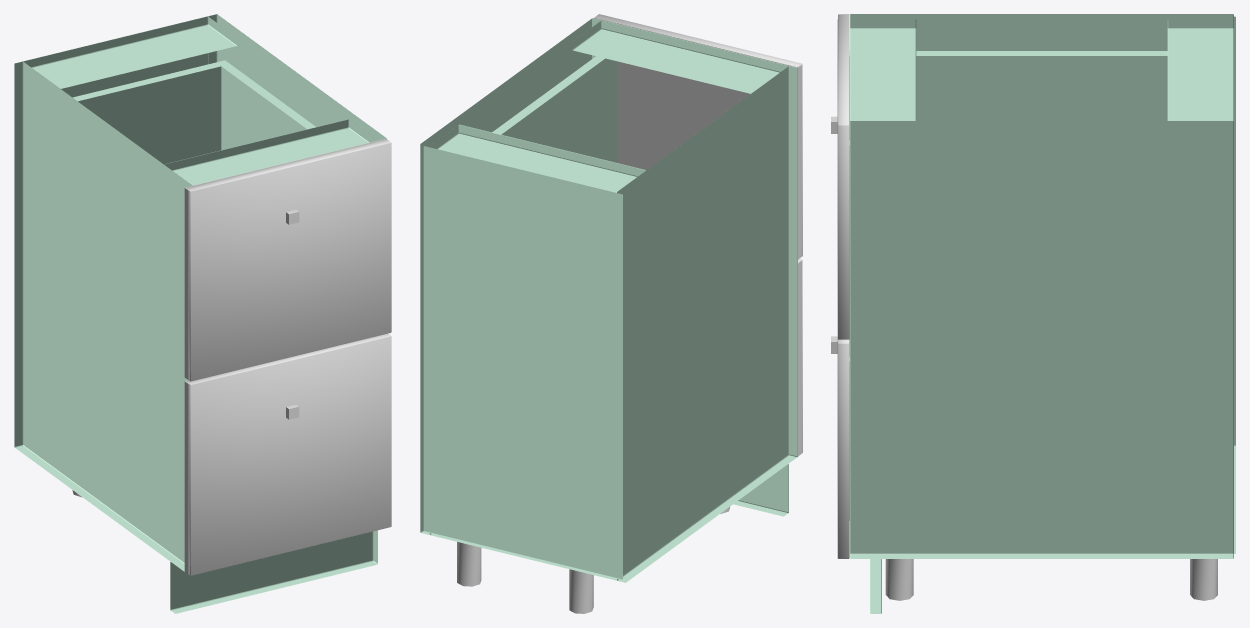
The model's file is M_2YNSD_3.glb.
The picture shows the model from 3 angles, left to right: view 1: azimuth 30°, elevation 25°; view 2: azimuth 150°, elevation 25°; view 3: azimuth 270°, elevation 25°; orthographic projection. The views are drawn at different scales.
Visible parts, largest first — view 1: M_2YNSD_3, M_2YNSD_1_F.002, M_2YNSD_1_F.003, M_2YNSD_3_F_3, M_2YNSD_1_F_C.003, M_2YNSD_1_F_C.002; view 2: M_2YNSD_3, M_2YNSD_3_F_3, M_2YNSD_1_F_A.002, Legs.003, M_2YNSD_1_F_B.002, M_2YNSD_1_F.002, M_2YNSD_1_F_C.003, M_2YNSD_1_F_C.002; view 3: M_2YNSD_3, M_2YNSD_3_F_3, M_2YNSD_1_F.002, M_2YNSD_1_F.003, Legs.003.
Boxes of the visible parts, <box> form: M_2YNSD_3: <box>14,14,386,613</box>; M_2YNSD_1_F.002: <box>186,139,391,381</box>; M_2YNSD_1_F.003: <box>186,333,391,575</box>; M_2YNSD_3_F_3: <box>72,60,315,164</box>; M_2YNSD_1_F_C.003: <box>184,382,189,574</box>; M_2YNSD_1_F_C.002: <box>184,188,189,379</box>; M_2YNSD_3: <box>420,18,797,582</box>; M_2YNSD_3_F_3: <box>492,56,617,162</box>; M_2YNSD_1_F_A.002: <box>594,17,800,170</box>; Legs.003: <box>457,507,729,613</box>; M_2YNSD_1_F_B.002: <box>696,43,801,259</box>; M_2YNSD_1_F.002: <box>594,14,802,256</box>; M_2YNSD_1_F_C.003: <box>798,261,801,455</box>; M_2YNSD_1_F_C.002: <box>798,65,801,258</box>; M_2YNSD_3: <box>850,14,1235,613</box>; M_2YNSD_3_F_3: <box>849,51,1167,520</box>; M_2YNSD_1_F.002: <box>837,14,849,339</box>; M_2YNSD_1_F.003: <box>837,339,849,558</box>; Legs.003: <box>885,559,1217,600</box>.
Size of the model in its own units: 4.22 by 8.6 by 6.46.
